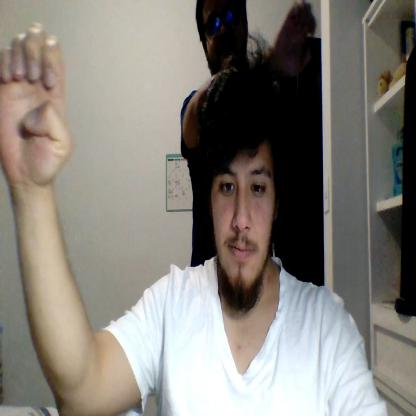E: (0, 22, 75, 188)
